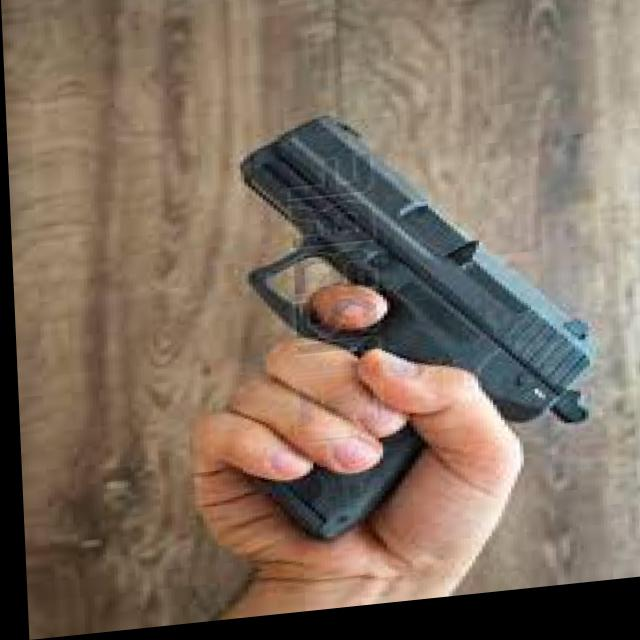handgun: (233, 106, 601, 561)
